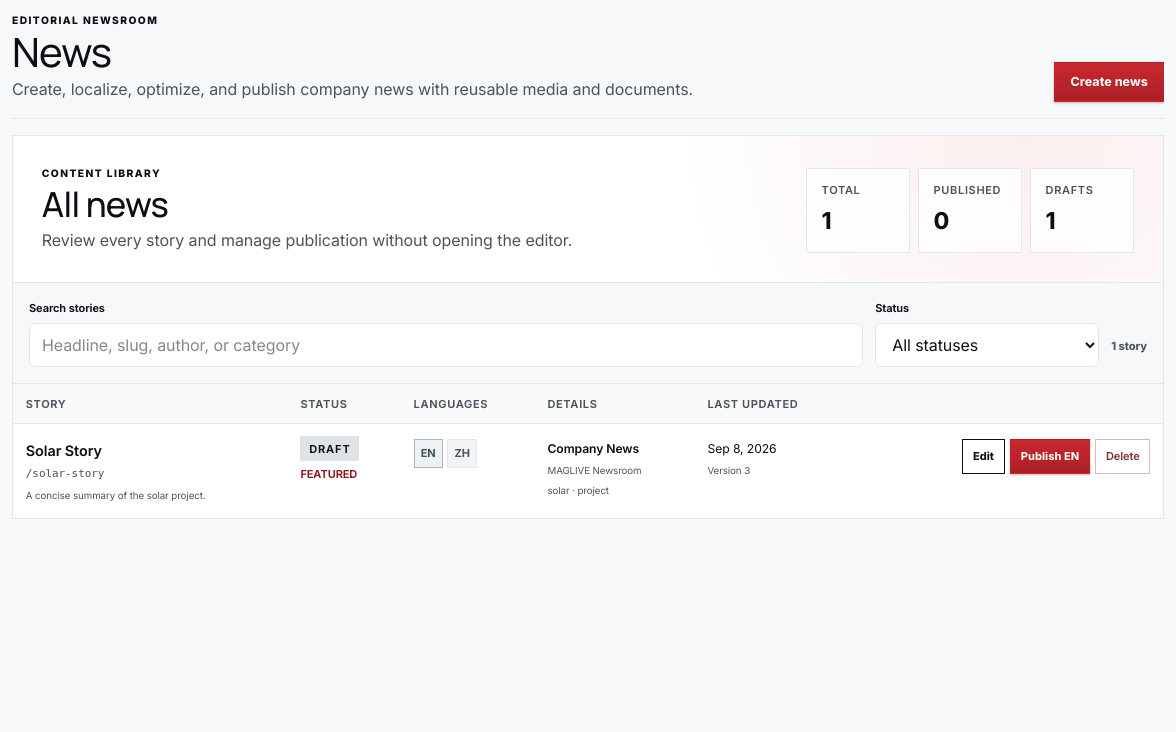
Test case: news management workspace › publishes directly from the list without opening the editor
Step 1. Click the button "Publish EN" → (1050, 456), box top-left (1010, 439), bottom-right (1090, 474)
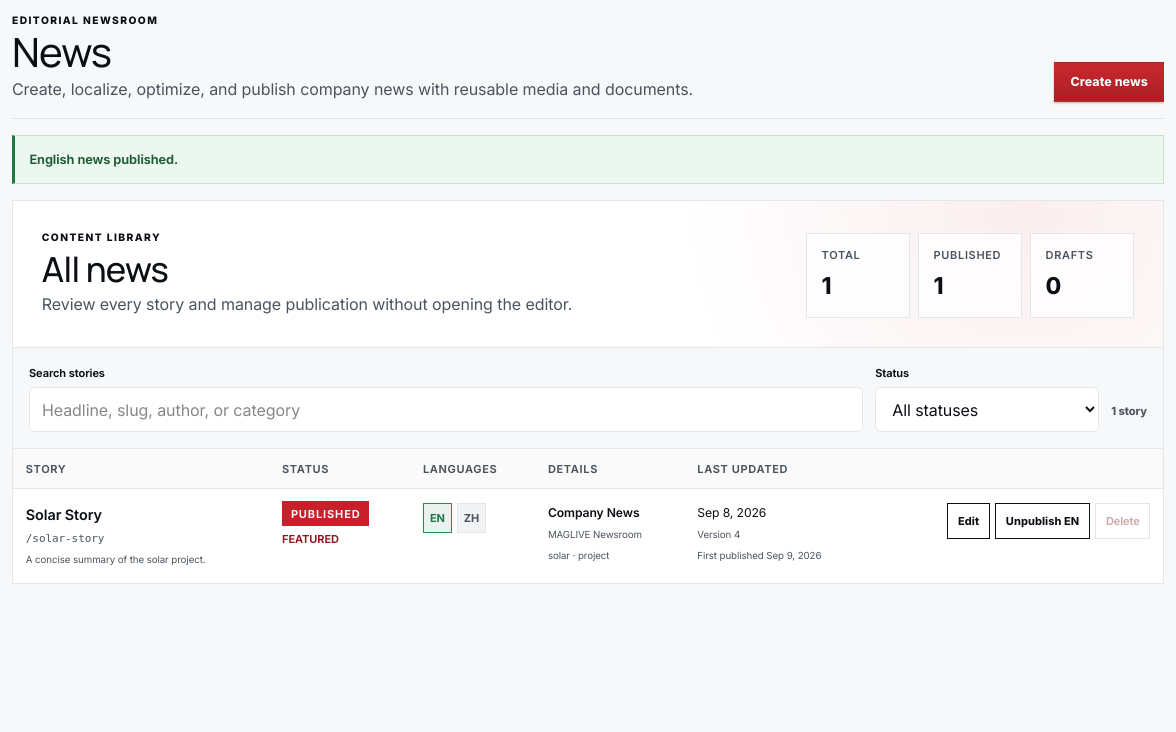
Expected: the button "Unpublish EN" is enabled, top-left (995, 503), bottom-right (1090, 539)
Result: the button "Delete" is disabled at top-left (1095, 503), bottom-right (1150, 539)
